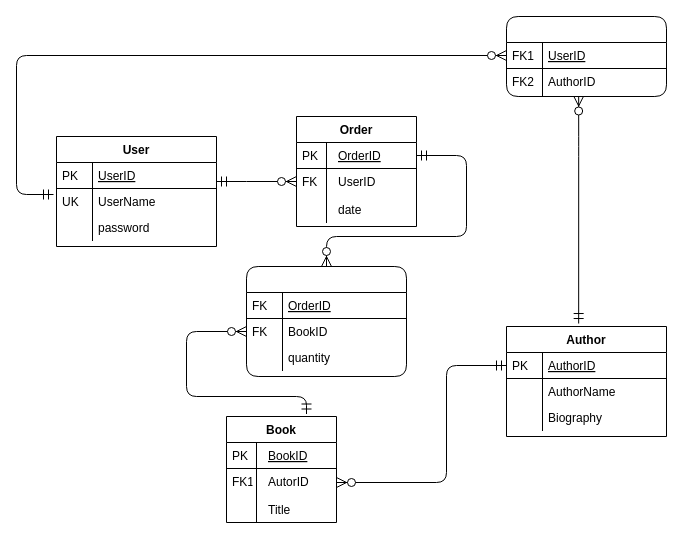
Image size: 683x539. Some labels were removed from this diagram. Here are the shapes that lost their labels. From the top down, the box of each, then its label:
(506, 16, 666, 96): read
(246, 266, 406, 376): BookOrder
